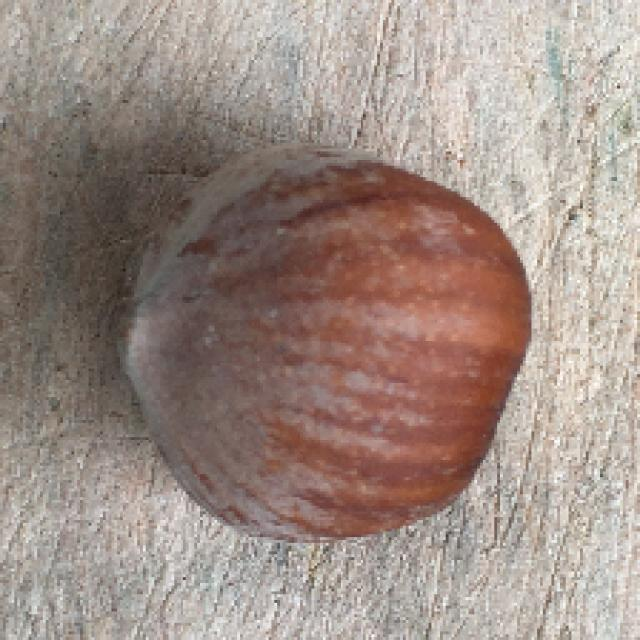qualityHazelnut: (107, 142, 534, 546)
